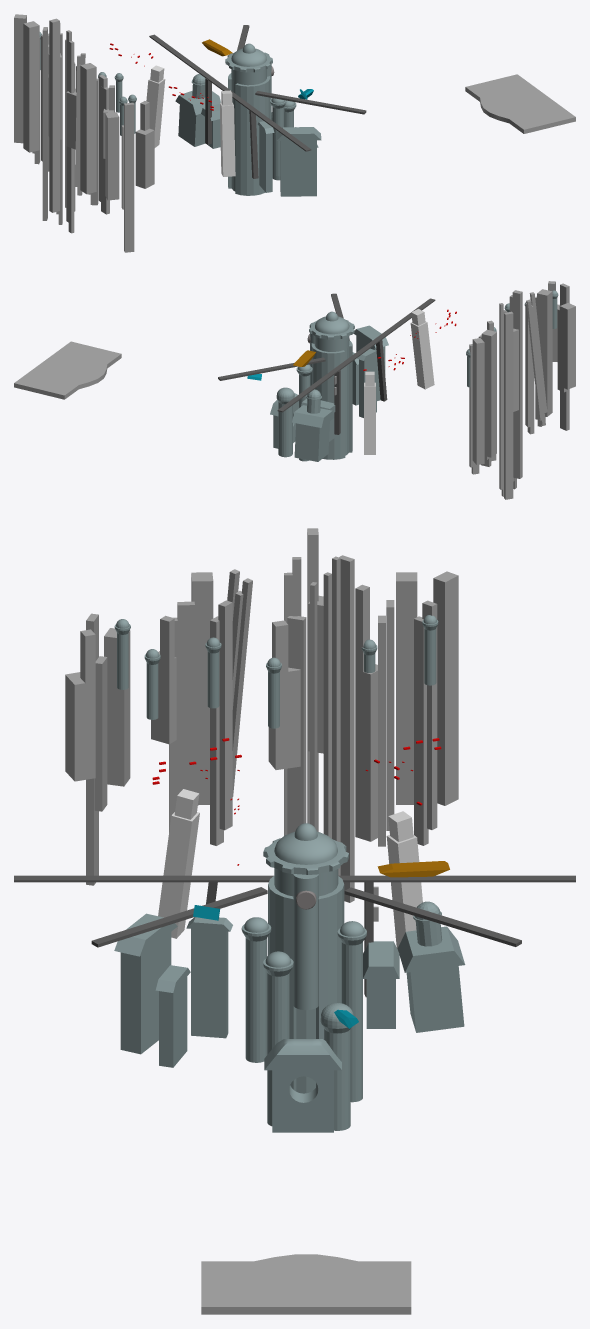
The model's file is SceneWhiteBox.fbx.
The picture shows the model from 3 angles, top to bottom: view 1: azimuth 30°, elevation 25°; view 2: azimuth 150°, elevation 25°; view 3: azimuth 270°, elevation 25°; orthographic projection. The views are drawn at different scales.
Parts seen in each view (by area): view 1: polySurface9, pCube11, pCube6, pCube60, pCube86, pCube88, pSphere18, pCube75, pCube74, pCube67, pCube76, pCube20 (+22 smaller); view 2: polySurface9, pCube11, pSphere18, pCube93, pCube60, pCube67, pCube86, pCube76, pCube88, pCube20, pCube17, pCube59 (+18 smaller); view 3: pCube11, polySurface9, pSphere18, pCube10, pCube6, pCube67, pCube68, pCube93, pCube2, pCube60, pCube75, pCube17 (+34 smaller).
Boxes of the visible parts, left/top/right/bottom form: polySurface9: left=225, top=43, right=272, bottom=195; pCube11: left=465, top=74, right=575, bottom=133; pCube6: left=275, top=127, right=321, bottom=196; pCube60: left=23, top=21, right=39, bottom=152; pCube86: left=80, top=63, right=96, bottom=194; pCube88: left=49, top=18, right=59, bottom=212; pSphere18: left=175, top=74, right=220, bottom=146; pCube75: left=135, top=101, right=154, bottom=188; pCube74: left=124, top=115, right=134, bottom=241; pCube67: left=14, top=14, right=26, bottom=143; pCube76: left=105, top=112, right=119, bottom=200; pCube20: left=220, top=90, right=235, bottom=176; polySurface9: left=309, top=311, right=354, bottom=459; pCube11: left=14, top=341, right=121, bottom=399; pSphere18: left=292, top=389, right=334, bottom=461; pCube93: left=504, top=311, right=513, bottom=499; pCube60: left=481, top=329, right=496, bottom=457; pCube67: left=472, top=338, right=484, bottom=464; pCube86: left=537, top=289, right=552, bottom=416; pCube76: left=559, top=303, right=575, bottom=389; pCube88: left=512, top=290, right=522, bottom=478; pCube20: left=410, top=309, right=434, bottom=389; pCube17: left=277, top=298, right=435, bottom=412; pCube59: left=364, top=371, right=375, bottom=454; pCube11: left=201, top=1254, right=411, bottom=1314; polySurface9: left=263, top=823, right=348, bottom=1093; pSphere18: left=397, top=901, right=465, bottom=1032; pCube10: left=264, top=1039, right=341, bottom=1132; pCube6: left=114, top=913, right=177, bottom=1054; pCube67: left=433, top=571, right=458, bottom=805; pCube68: left=355, top=584, right=377, bottom=841; pCube93: left=339, top=555, right=354, bottom=902; pCube2: left=186, top=917, right=232, bottom=1038; pCube60: left=396, top=572, right=417, bottom=804; pCube75: left=65, top=629, right=95, bottom=781; pCube17: left=14, top=875, right=575, bottom=882.
Size of the model in its own units: 45.72 by 19.49 by 25.13.
